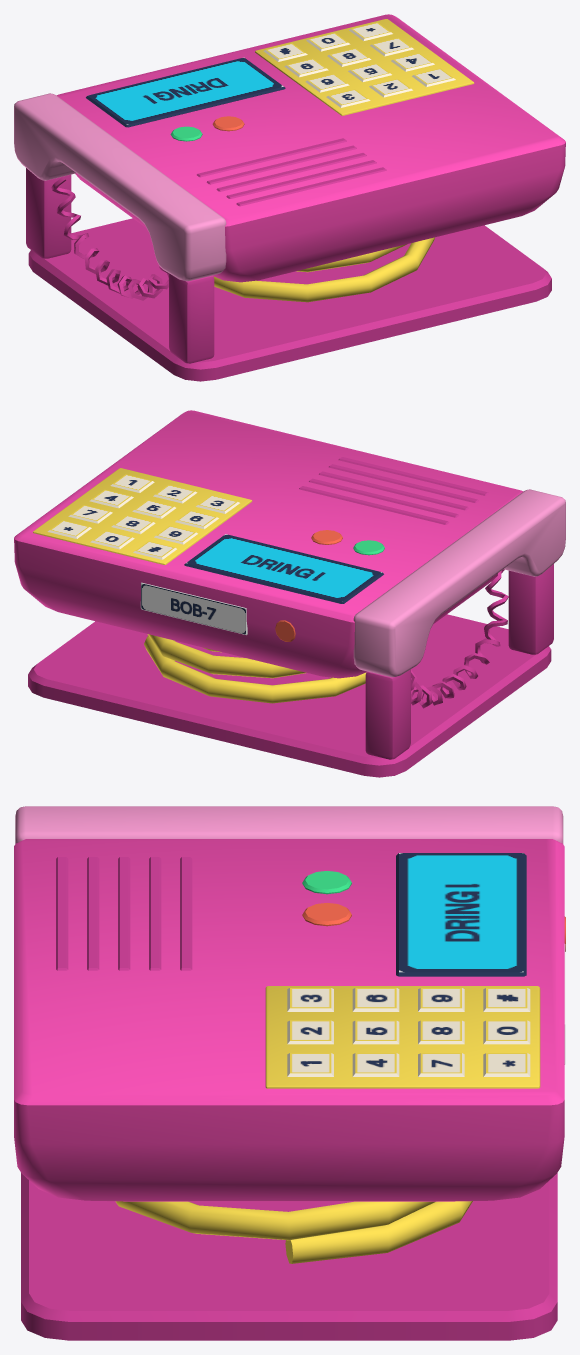
Rendered from bureau_spring_phone.glb.
The picture shows the model from 3 angles, top to bottom: view 1: azimuth 30°, elevation 25°; view 2: azimuth 150°, elevation 25°; view 3: azimuth 270°, elevation 25°; orthographic projection. The views are drawn at different scales.
Visible parts, largest first — view 1: bureau_spring_phone; view 2: bureau_spring_phone; view 3: bureau_spring_phone.
Boxes of the visible parts, x1,y1,x2,y2 form: bureau_spring_phone: [14, 14, 565, 381]; bureau_spring_phone: [14, 410, 565, 777]; bureau_spring_phone: [14, 806, 565, 1340].
Bounding box in the file's own units: 10 × 4 × 8.02.
Materials: 1 (1 with a texture image).
